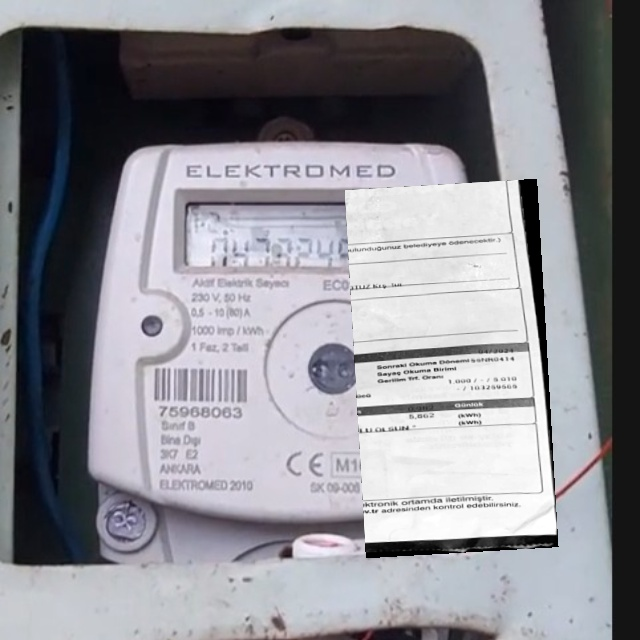electricity-bill: (344, 179, 559, 557)
